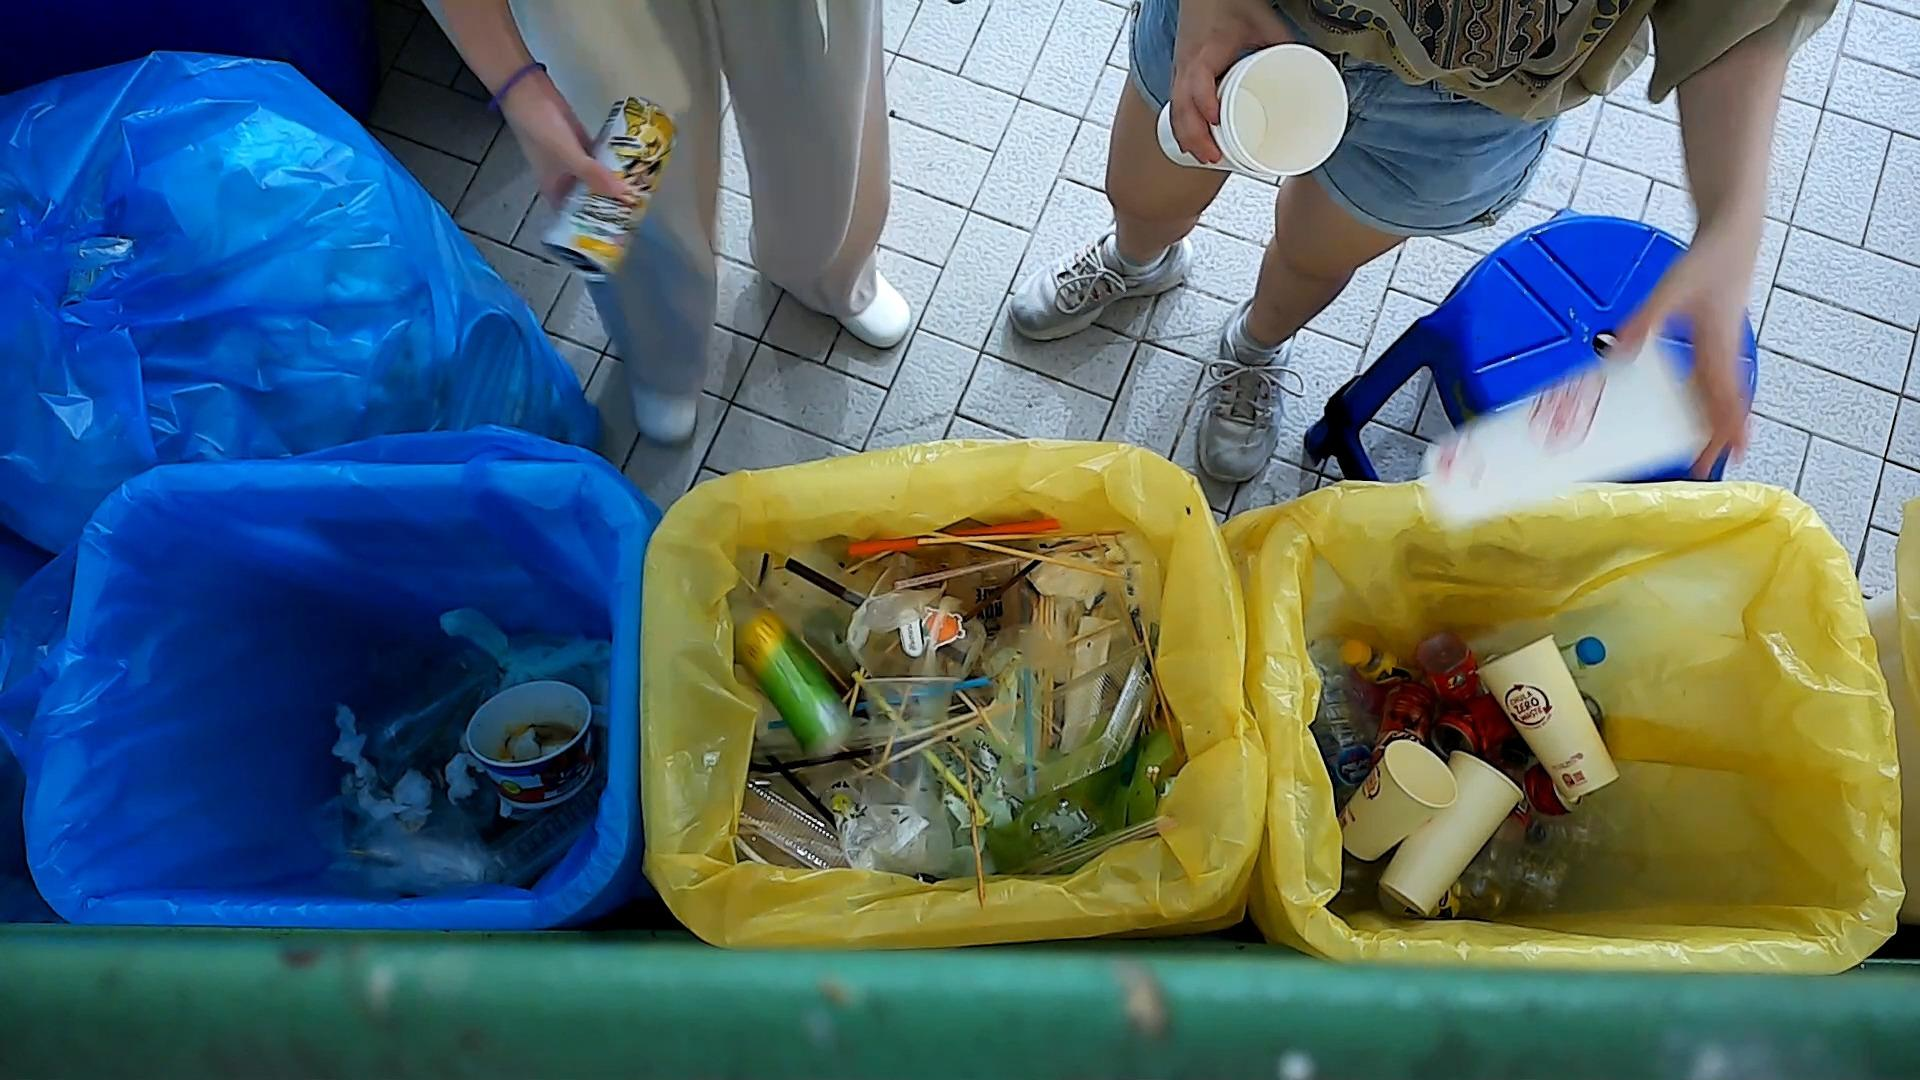can: (537, 84, 691, 286), (731, 605, 856, 760), (1428, 692, 1518, 764), (1371, 676, 1439, 757), (1520, 758, 1585, 819)
dirty food container: (463, 678, 597, 814)
food container: (985, 644, 1158, 810)
plastic bag: (825, 752, 957, 878)
plastic bottle: (1304, 630, 1379, 811)
plastic cup: (847, 562, 992, 679), (865, 671, 976, 820)
sticks: (924, 529, 1125, 580), (848, 713, 993, 781), (1139, 620, 1185, 771), (860, 705, 994, 752), (915, 526, 1131, 547), (963, 746, 988, 909)
straw: (851, 667, 992, 831), (748, 738, 927, 777), (765, 753, 843, 836), (960, 558, 1040, 625), (893, 555, 1027, 592), (785, 553, 868, 608), (1019, 665, 1036, 799)
tissue paper: (355, 764, 435, 831), (327, 702, 380, 782), (442, 750, 487, 810)
zero waste cup: (1406, 324, 1724, 546), (1154, 40, 1358, 183), (1365, 749, 1524, 920), (1470, 630, 1622, 802), (1335, 735, 1455, 866)
